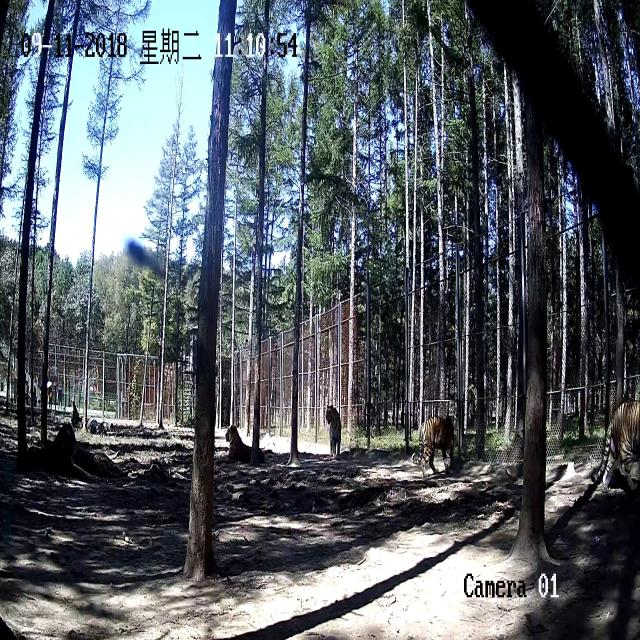Tiger: (596, 389, 640, 498), (6, 418, 80, 478), (410, 409, 459, 482), (218, 412, 270, 470), (82, 447, 131, 482), (323, 398, 347, 460)
